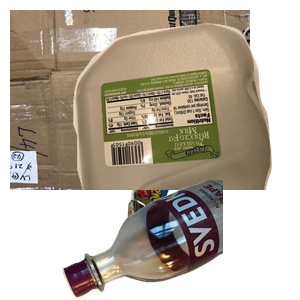cardboard: (10, 10, 250, 190)
glass: (60, 180, 300, 300)
plastic: (71, 21, 300, 201)
trash: (120, 131, 290, 300)
